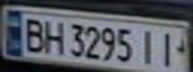2: (81, 21, 103, 61)
3: (63, 20, 87, 58)
5: (115, 25, 136, 64)
9: (97, 24, 118, 62)
B: (18, 15, 48, 53)
H: (39, 17, 66, 55)
I: (154, 28, 184, 67), (136, 27, 160, 65)
